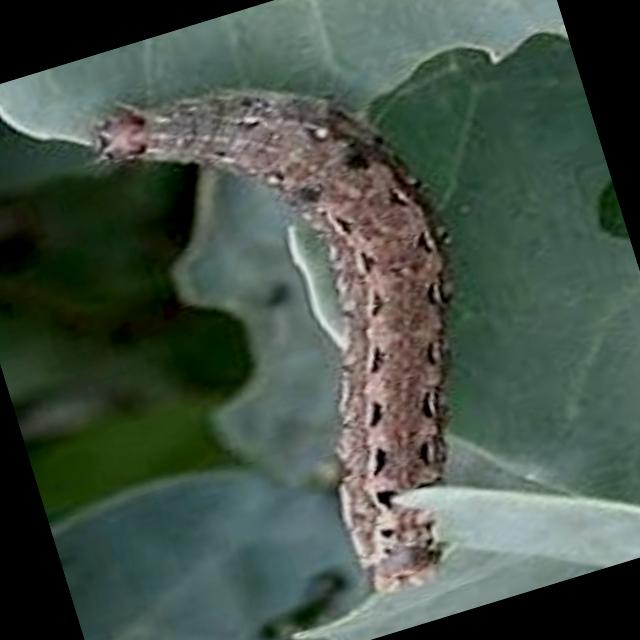Tobacco cutworm: (37, 0, 620, 640)
